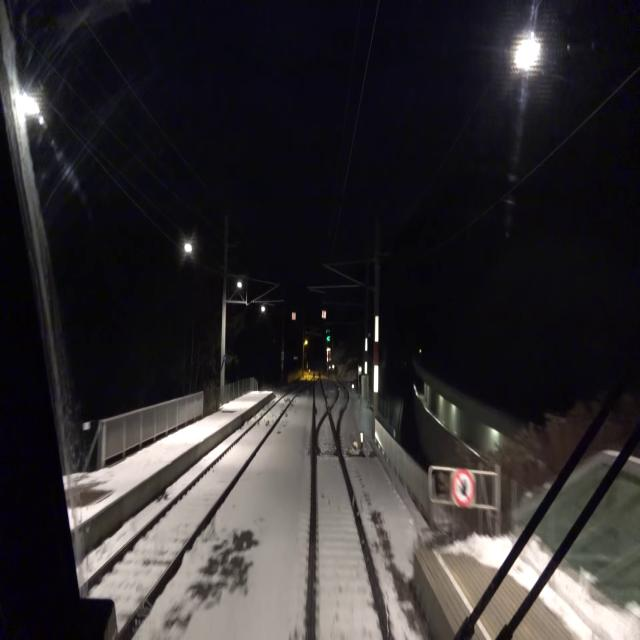rail-track: (77, 395, 291, 639), (313, 415, 386, 639), (332, 384, 346, 423), (315, 382, 326, 421)
